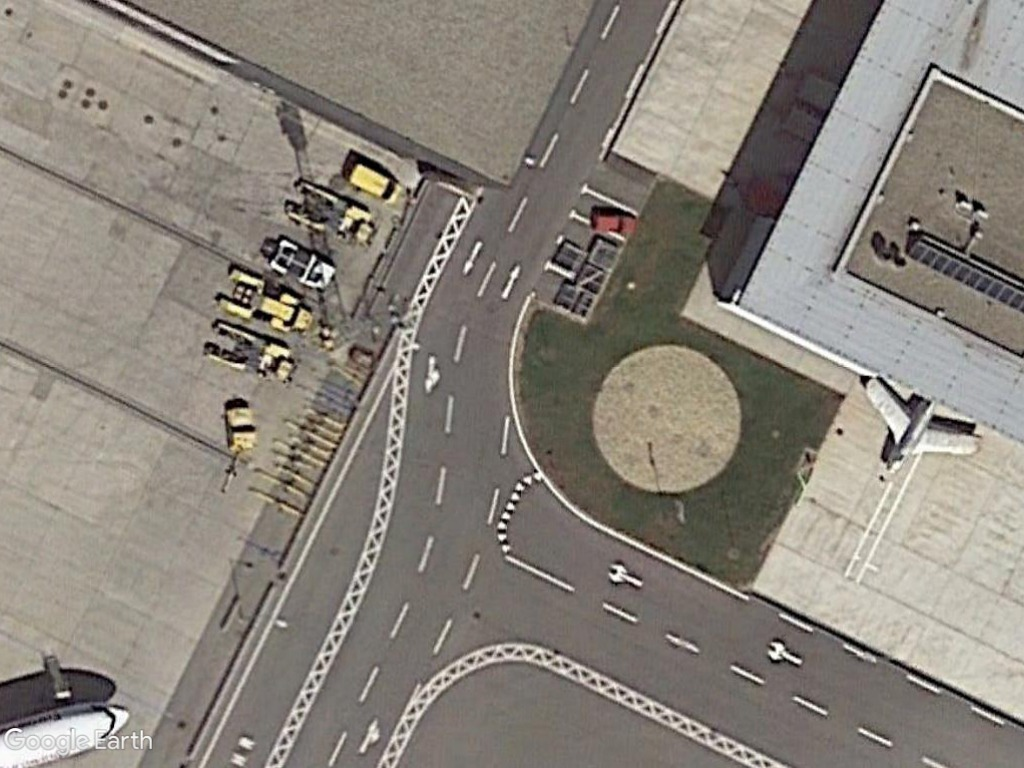pushback: (220, 261, 317, 337), (286, 175, 381, 251), (202, 313, 299, 386)
